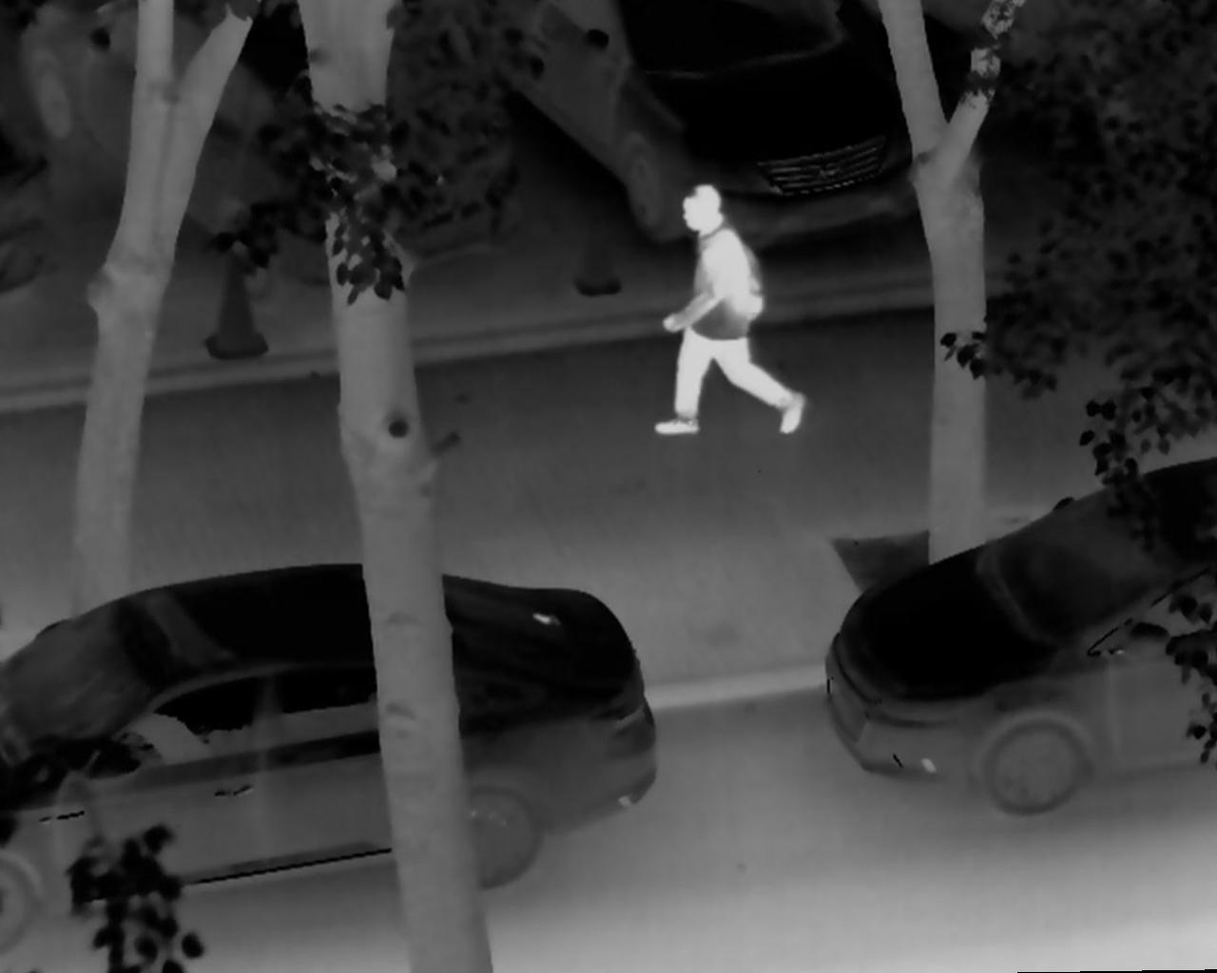person: (644, 178, 807, 446)
